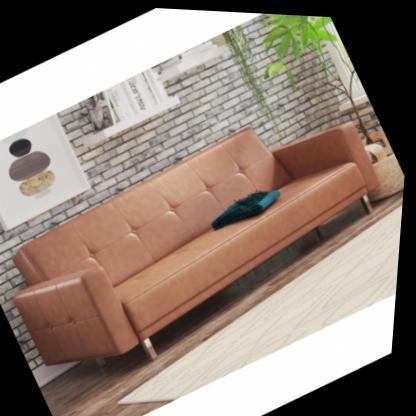Sofa: (0, 65, 412, 415)
